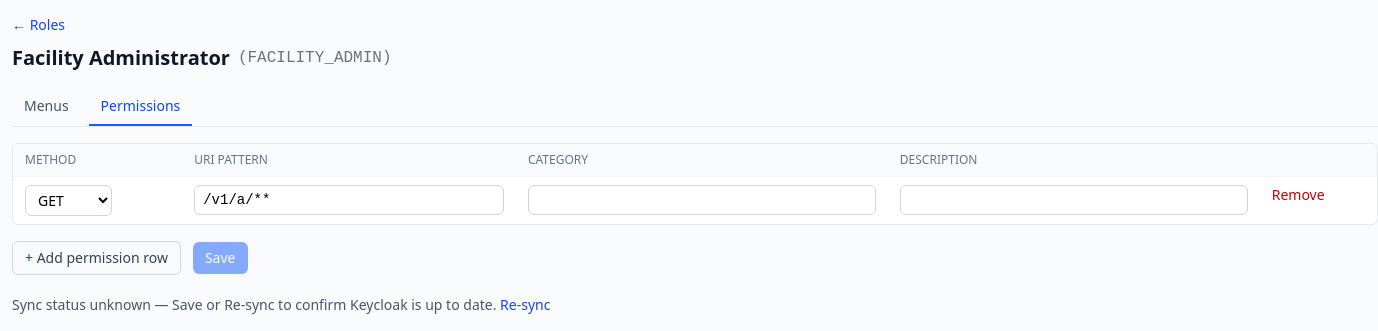
Test case: RolePermissionsTab › keeps Save disabled until the rows differ from what was fetched
Expected: the field showing "/v1/a/**" is shown, [194, 185, 504, 215]
Expected: the button "Save" is disabled, [193, 242, 248, 274]
Type "X" into the field named "Category, row 1" at (702, 200), box [528, 185, 876, 215]
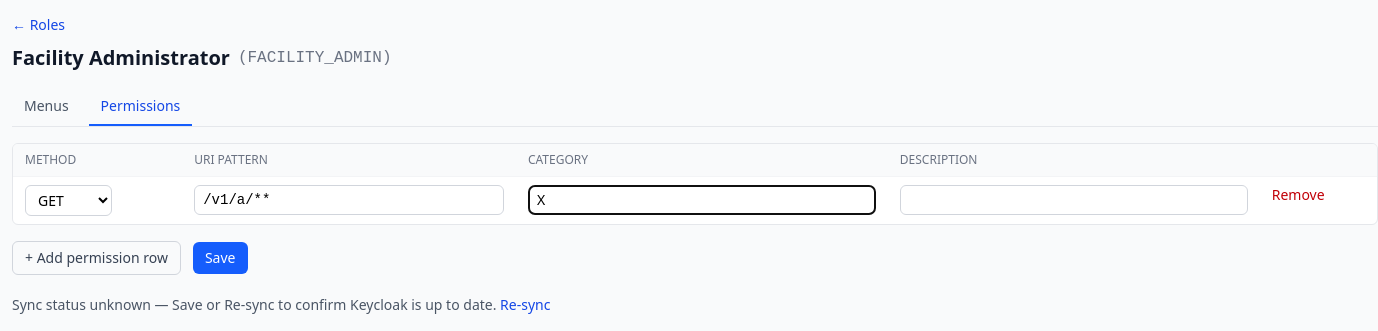
Expected: the button "Save" is enabled, [193, 242, 248, 274]
Clear the field named "Category, row 1" at (702, 200), box [528, 185, 876, 215]
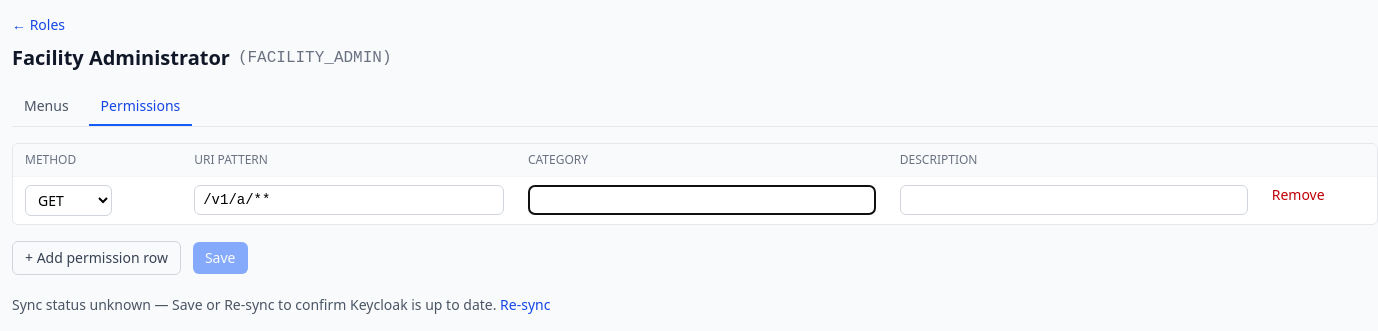
Expected: the button "Save" is disabled, [193, 242, 248, 274]
